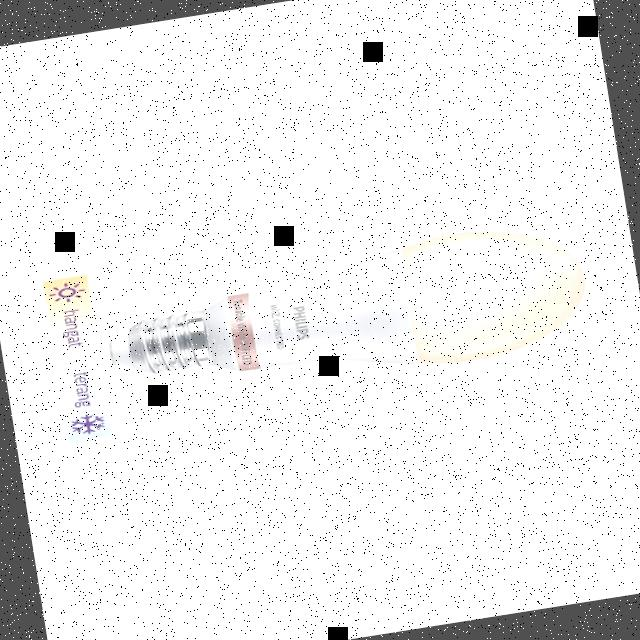light_bulb: (89, 190, 626, 438)
